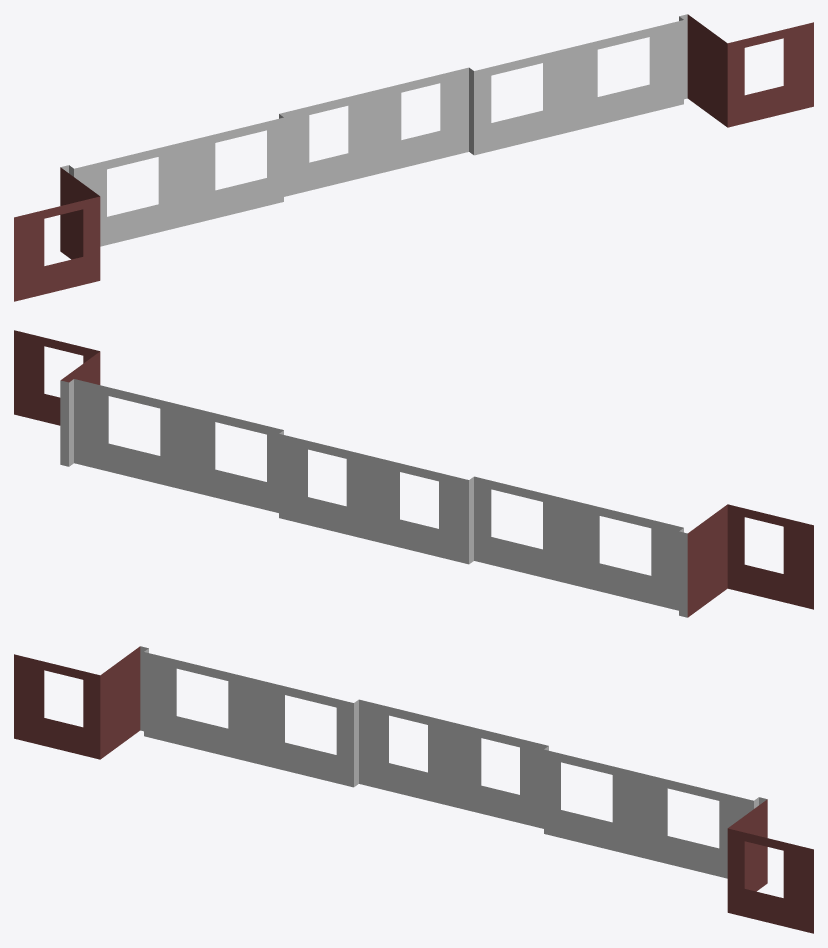
Rendered from p3-floor-first-back-v2.fbx.
The picture shows the model from 3 angles, top to bottom: view 1: azimuth 30°, elevation 25°; view 2: azimuth 150°, elevation 25°; view 3: azimuth 330°, elevation 25°; orthographic projection.
Parts seen in each view (by area): view 1: floor-first-back.001-ver2; view 2: floor-first-back.001-ver2; view 3: floor-first-back.001-ver2.
Part boxes in pixels (box(x1,y1,x2,y2)): floor-first-back.001-ver2: box(14, 14, 813, 301); floor-first-back.001-ver2: box(14, 330, 813, 617); floor-first-back.001-ver2: box(14, 646, 813, 933).
Size of the model in its own units: 2779 by 280 by 240.
